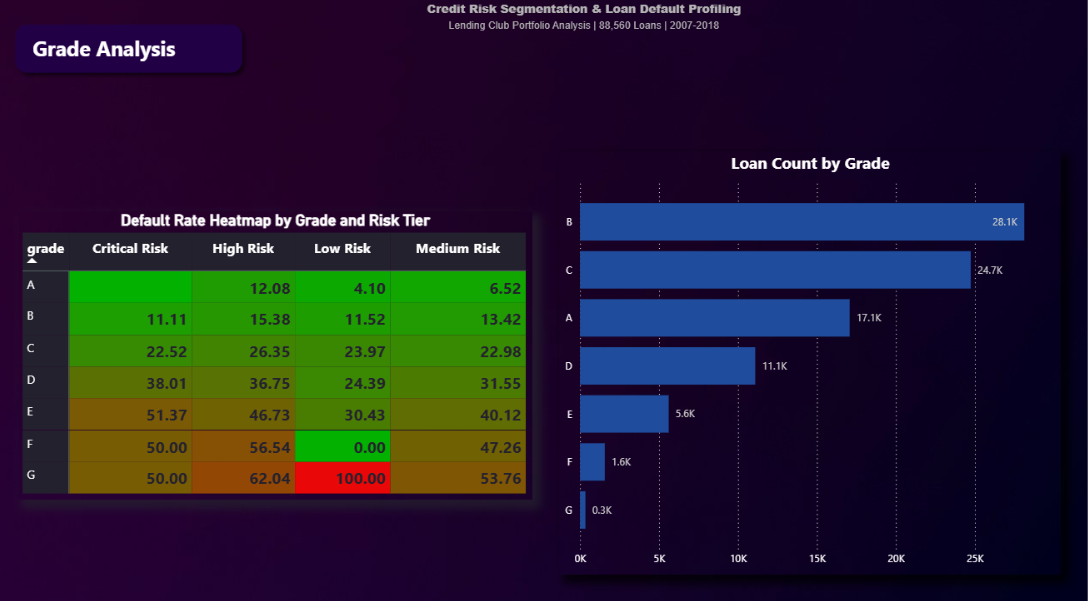

The page's visual inventory and layout, read from the dashboard file:
{"tool":"powerbi","page":{"name":"Grade Analysis","canvas":[1280,720],"ordinal":3},"visuals":[{"type":"textbox","box":[456,0,454.7,88],"z":0},{"type":"shape","box":[12,24,282.7,74.7],"z":1000},{"type":"textbox","box":[35.8,39.8,237.3,42.4],"z":2000},{"type":"clusteredBarChart","title":"Loan Count by Grade","fields":{"Category":["grade_tier.grade"],"Y":["Sum(grade_tier.total_loans)"]},"box":[654.9,181.6,584.7,493.2],"z":3000},{"type":"pivotTable","title":"Default Rate Heatmap by Grade and Risk Tier","fields":{"Rows":["grade_tier.grade"],"Columns":["grade_tier.risk_tier"],"Values":["Sum(grade_tier.default_rate_pct)"]},"box":[24,250.7,598.7,336],"z":4000}]}

Visuals, with their boxes in screenshot pixels (x1, y1, x2, y2), scaled from the page's 1280x720 canvas onto the 1088x602 screenshot:
textbox: [left=388, top=0, right=774, bottom=74]
shape: [left=10, top=20, right=250, bottom=83]
textbox: [left=30, top=33, right=232, bottom=69]
"Loan Count by Grade" clusteredBarChart: [left=557, top=152, right=1054, bottom=564]
"Default Rate Heatmap by Grade and Risk Tier" pivotTable: [left=20, top=210, right=529, bottom=491]
